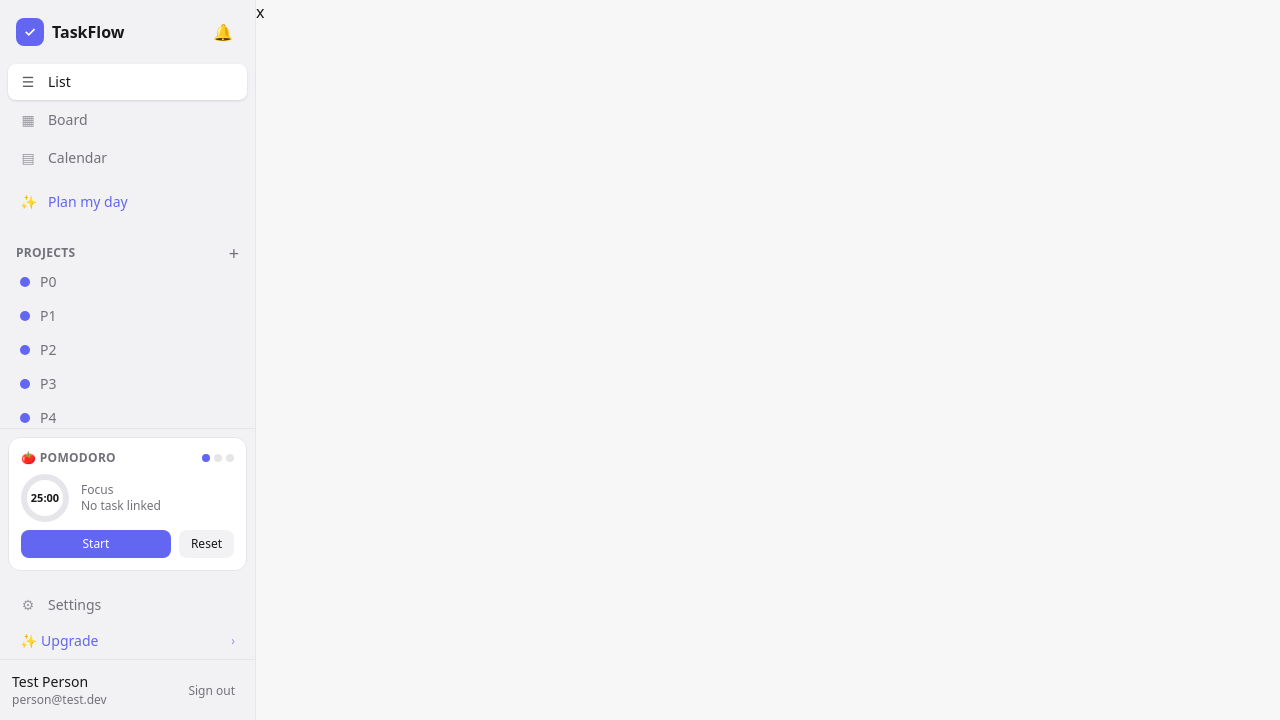
Scenario: AppShell › blocks a 6th project on the free plan with an upgrade prompt
The image size is (1280, 720).
Click the button titled "New project". click: (234, 253)
box: [229,244,239,262]
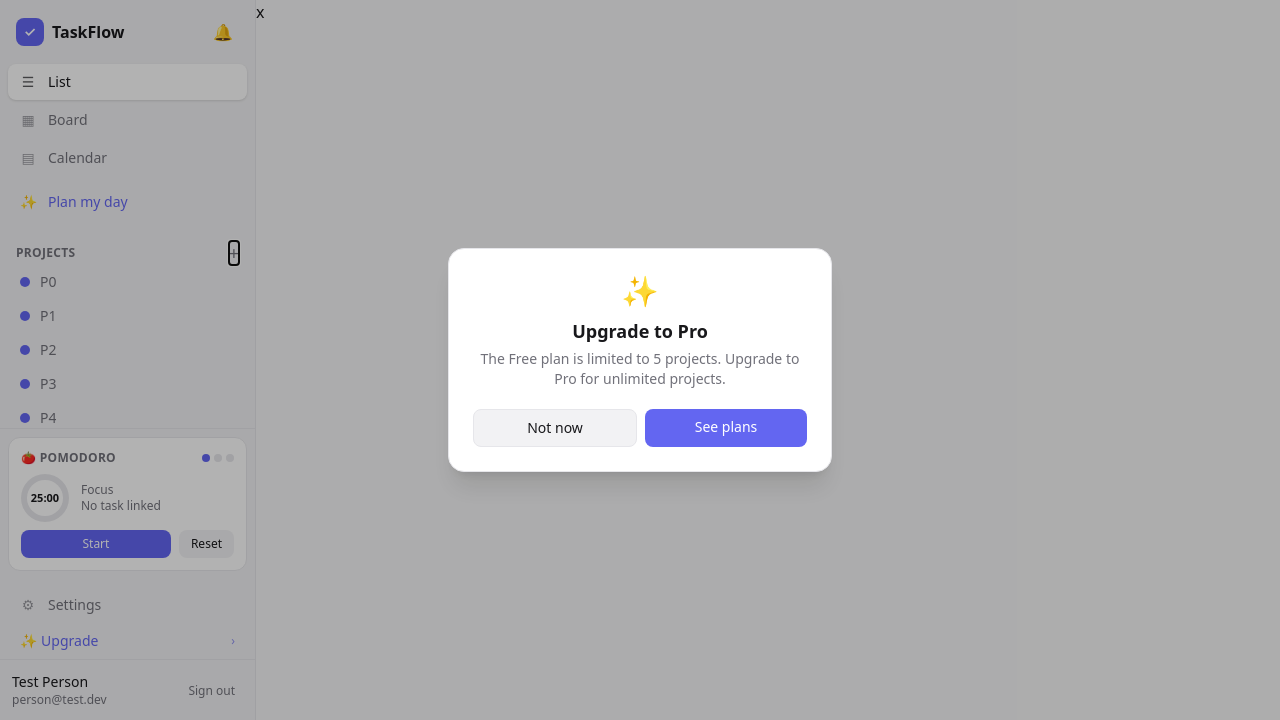
Now the text "limited to 5 projects" is shown, box [480,349,799,388]
